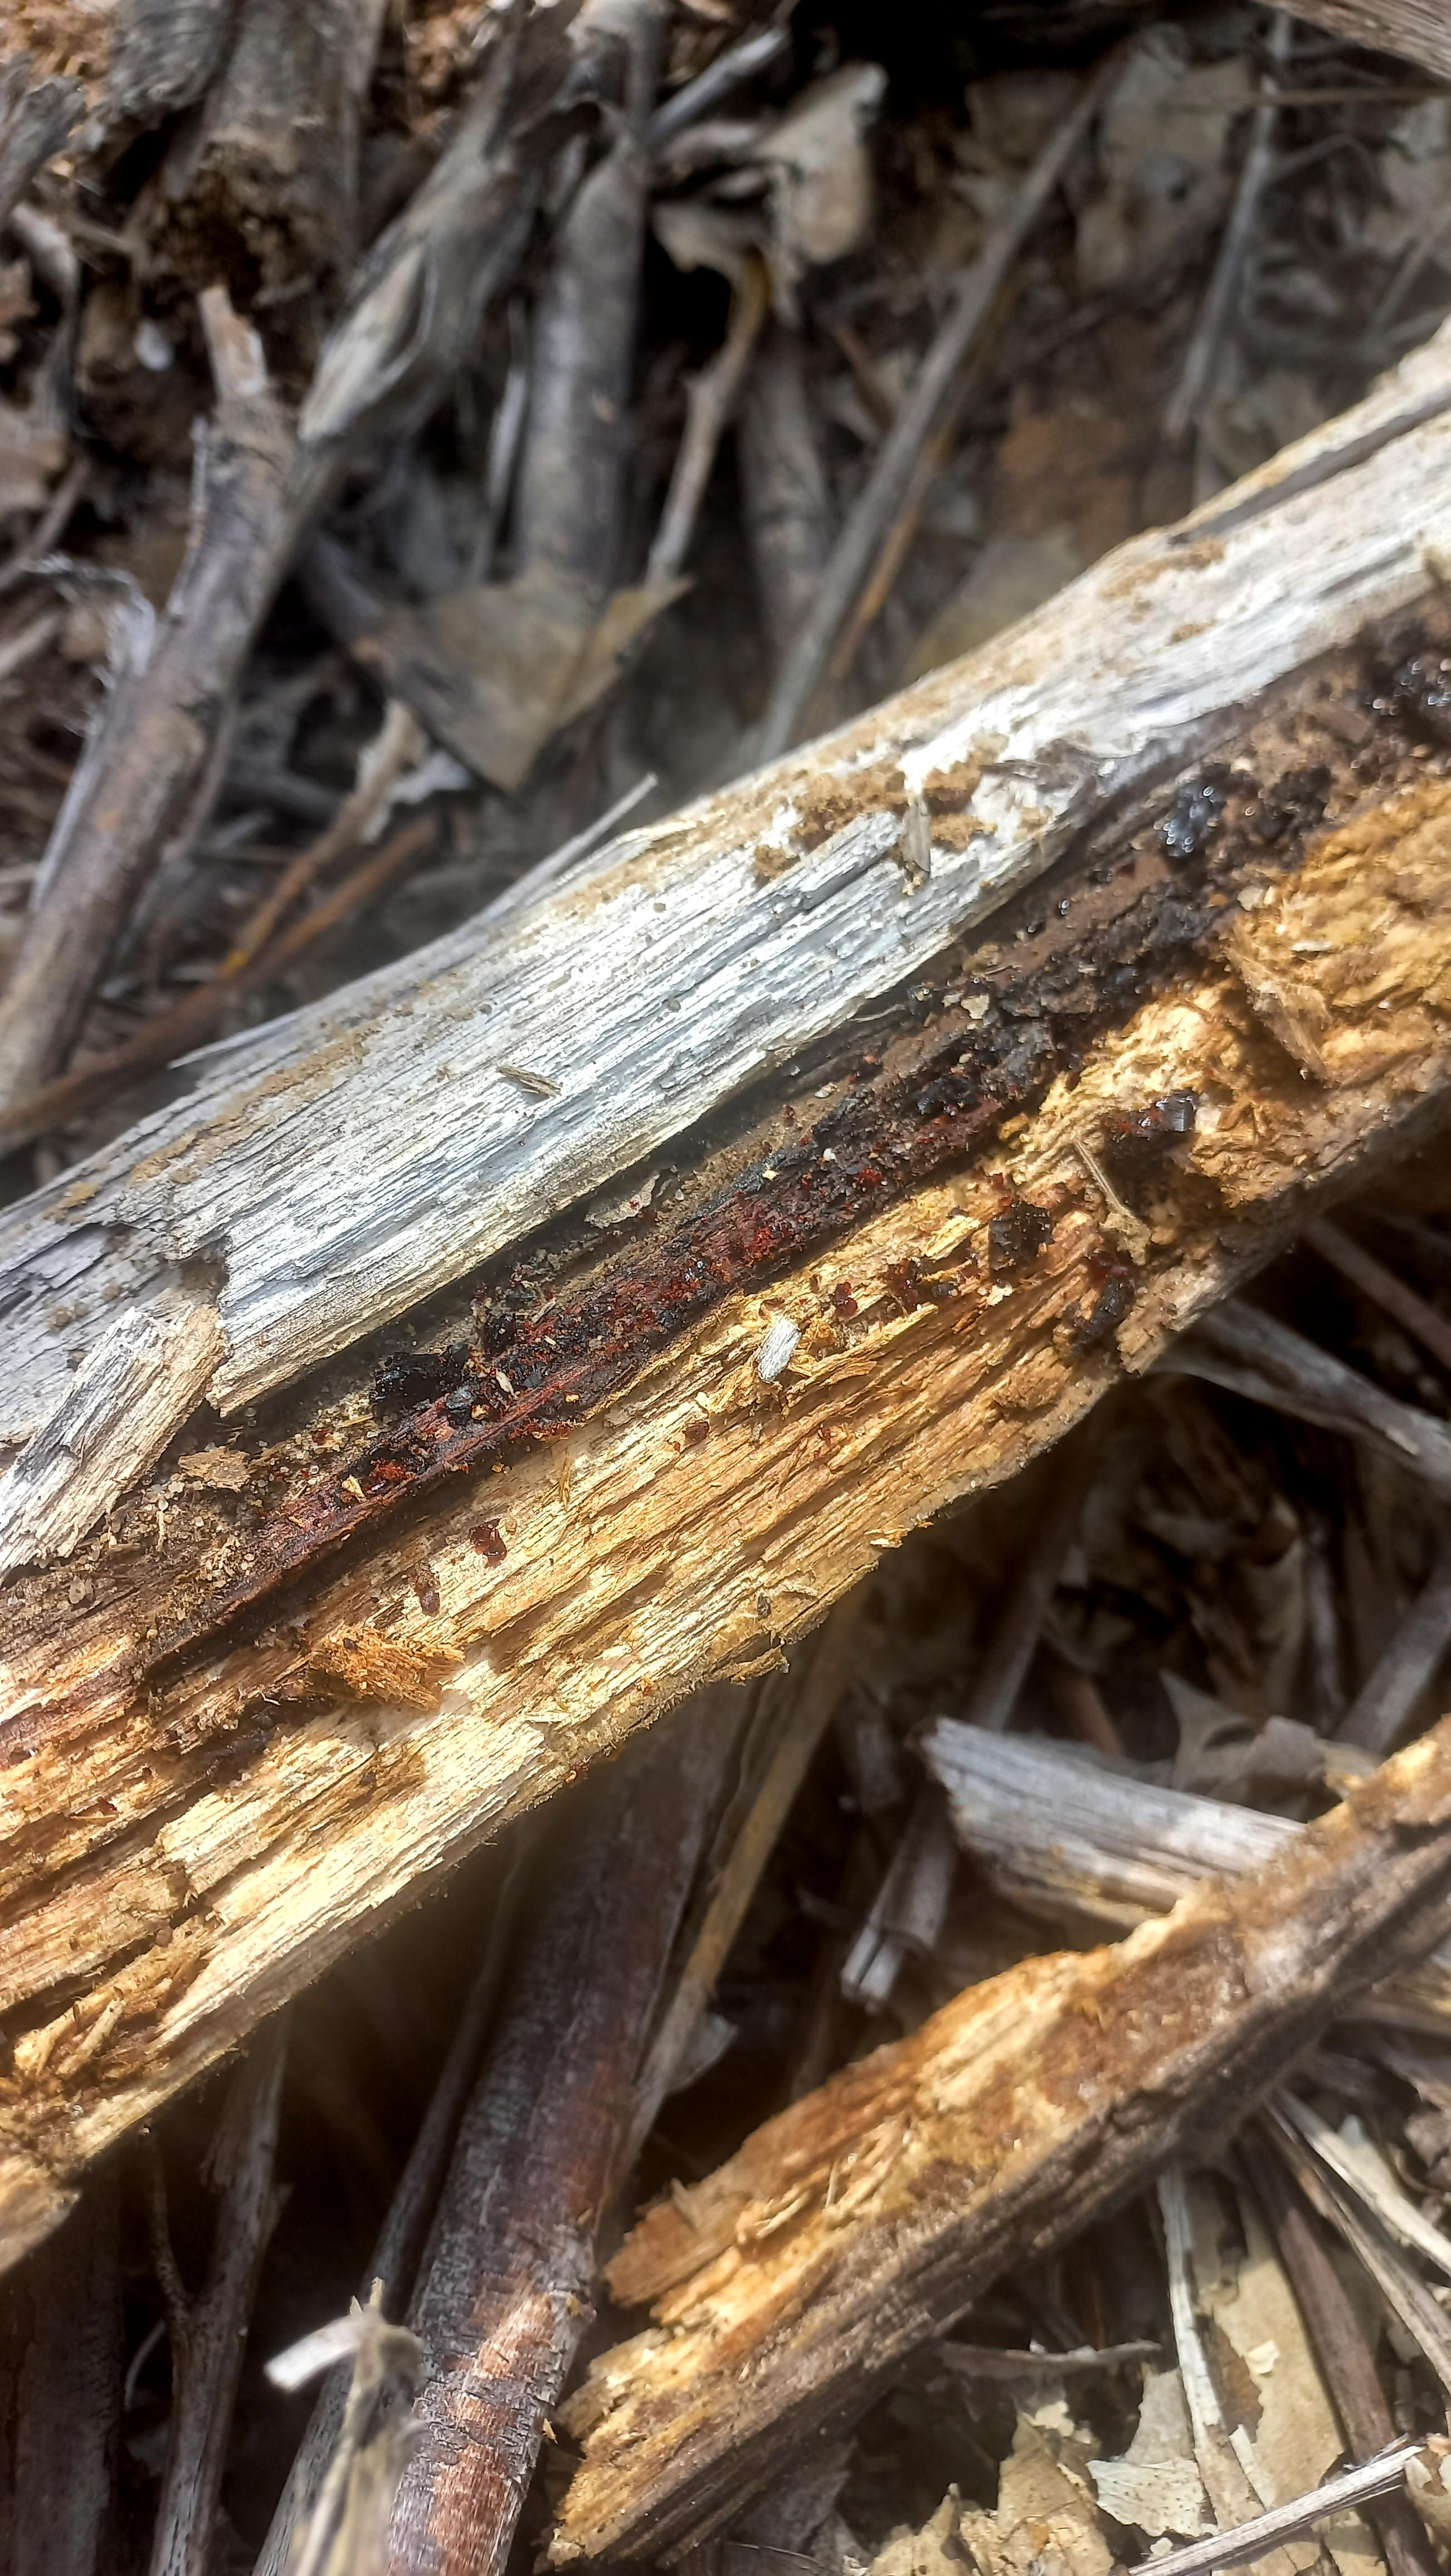Red Root Rot - Secretion: (179, 860, 1219, 1612)
